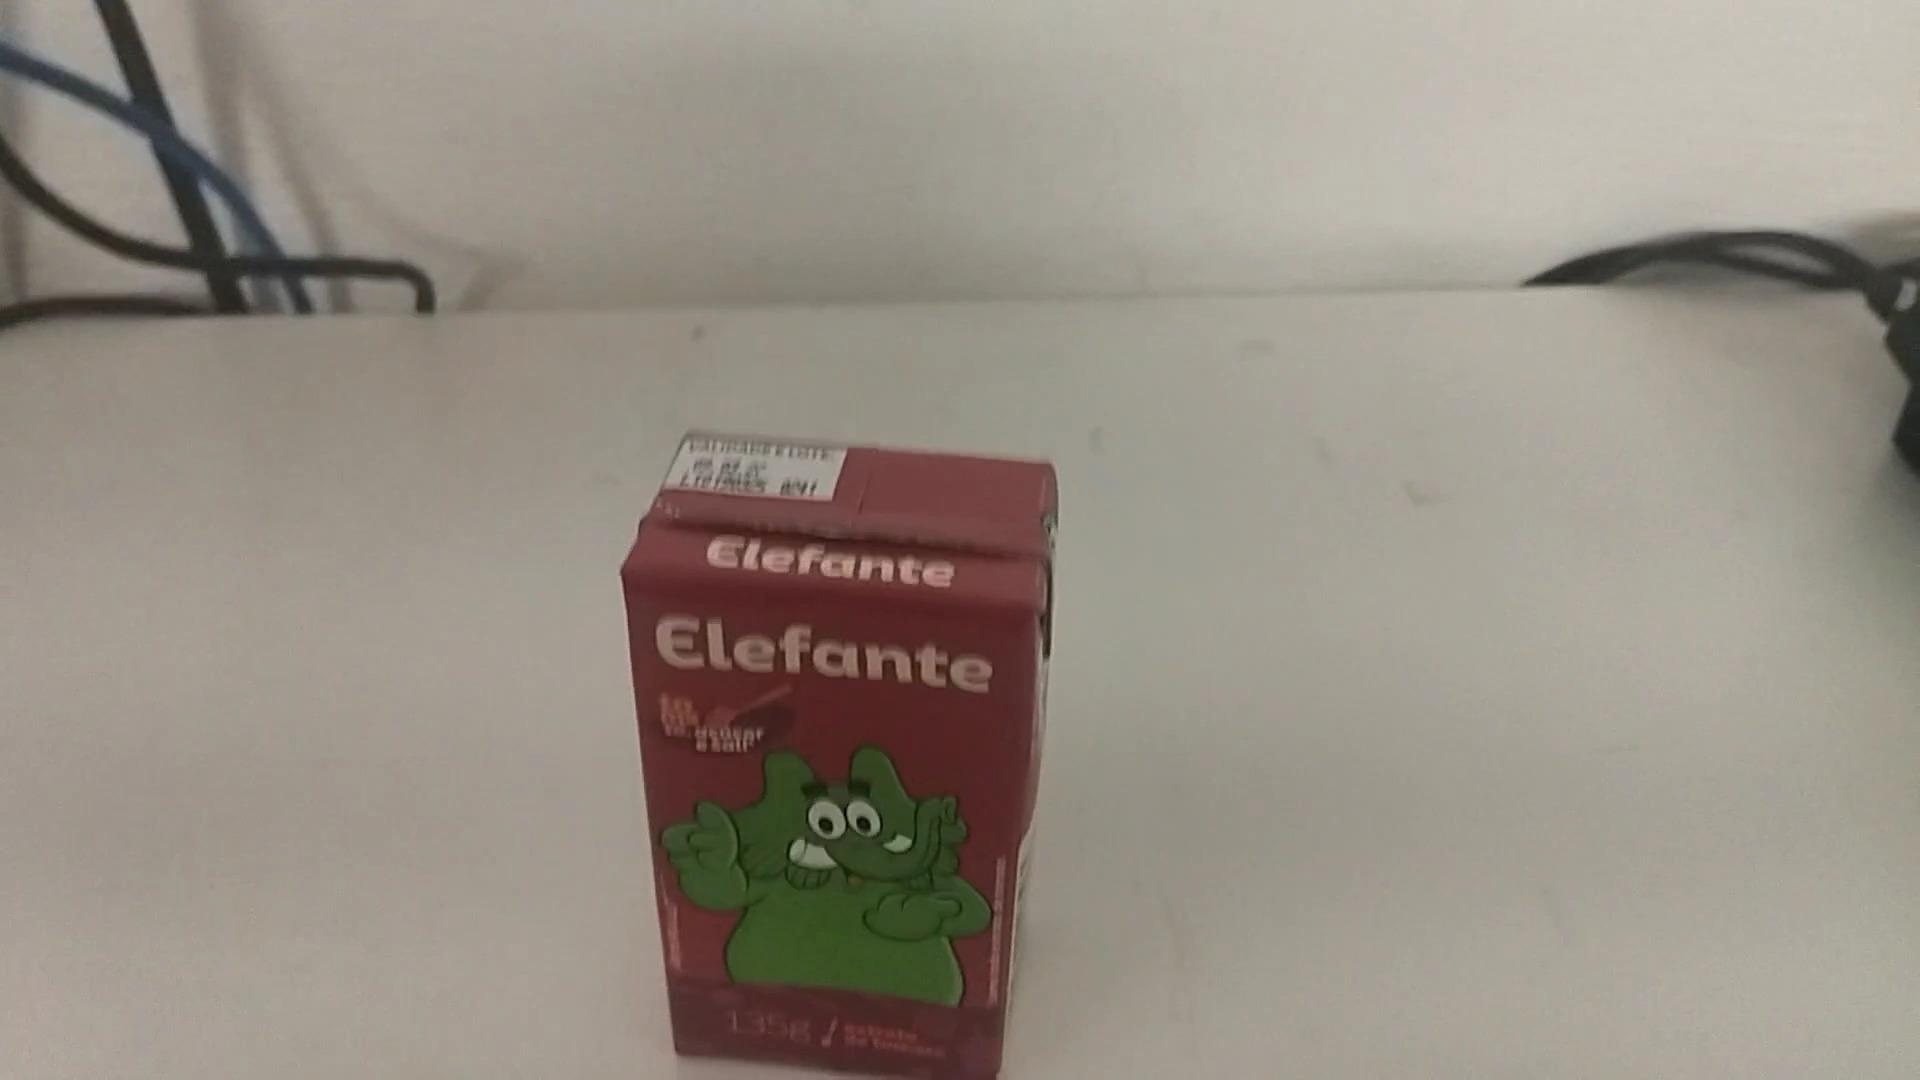tomate: (621, 421, 1072, 1073)
